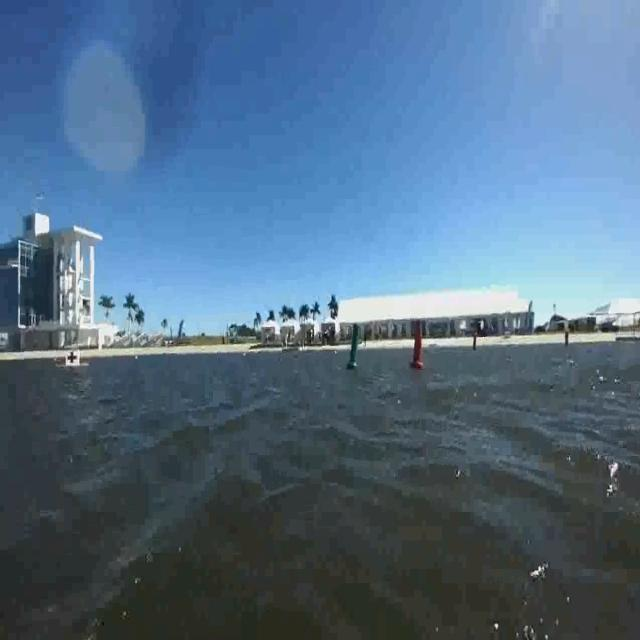green-column-buoy: (345, 315, 364, 381)
red-column-buoy: (408, 310, 428, 380)
